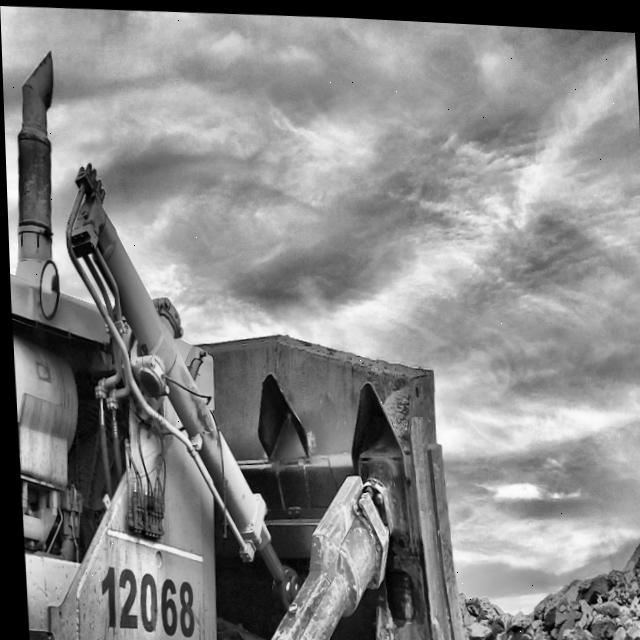buldozerpayloadergrader: (8, 56, 463, 640)
